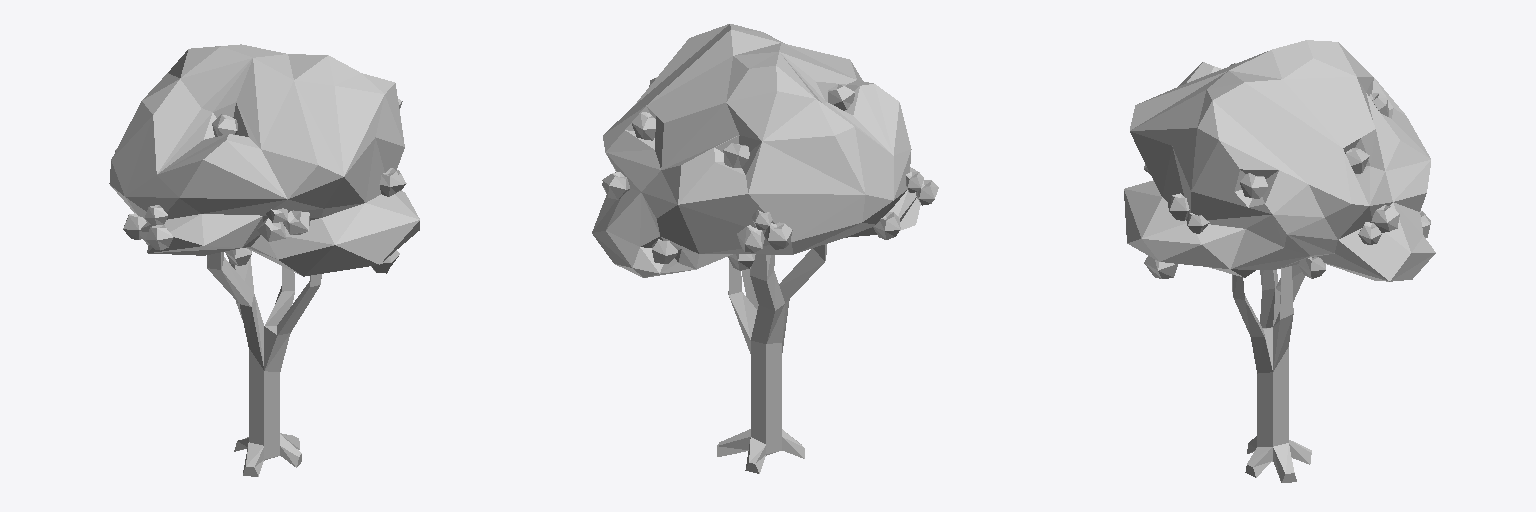
The model's file is SM_Env_Tree_Apple_Grown_01.obj.
3 views of the same model, side by side, from view 1: azimuth 30°, elevation 25°; view 2: azimuth 150°, elevation 25°; view 3: azimuth 270°, elevation 25° (orthographic).
Size of the model in its own units: 304 by 430 by 296.